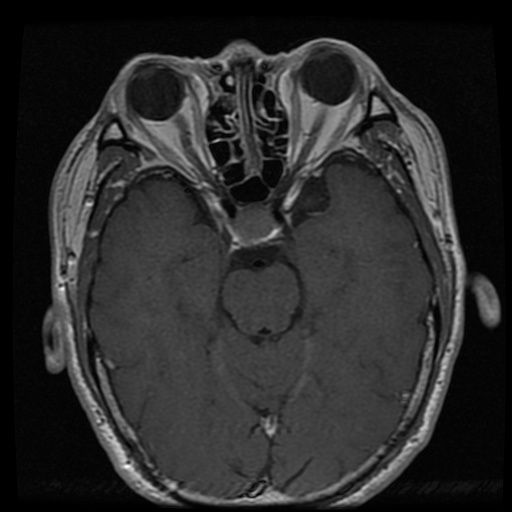pituitary: (231, 200, 282, 245)
